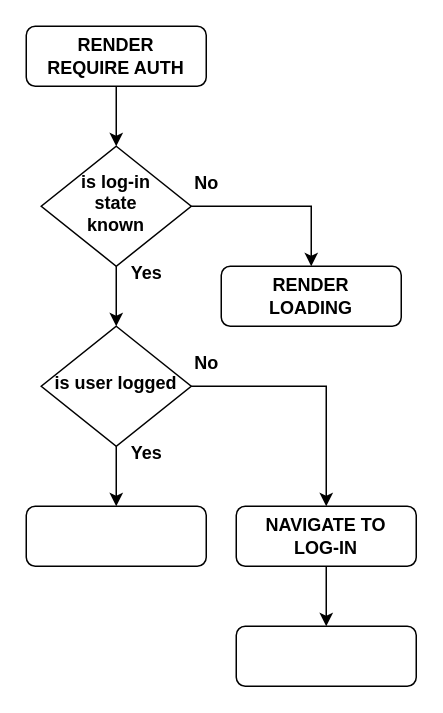
Image size: 443x713. Some labels were removed from this diagram. The shapes that lost their labels are listed below. From the top down, each one's box as (x1, y1, x2, y2) in pixels, then its label:
(25, 505, 206, 566): RENDER CHILD
(235, 625, 416, 686): LOG-IN PAGE
